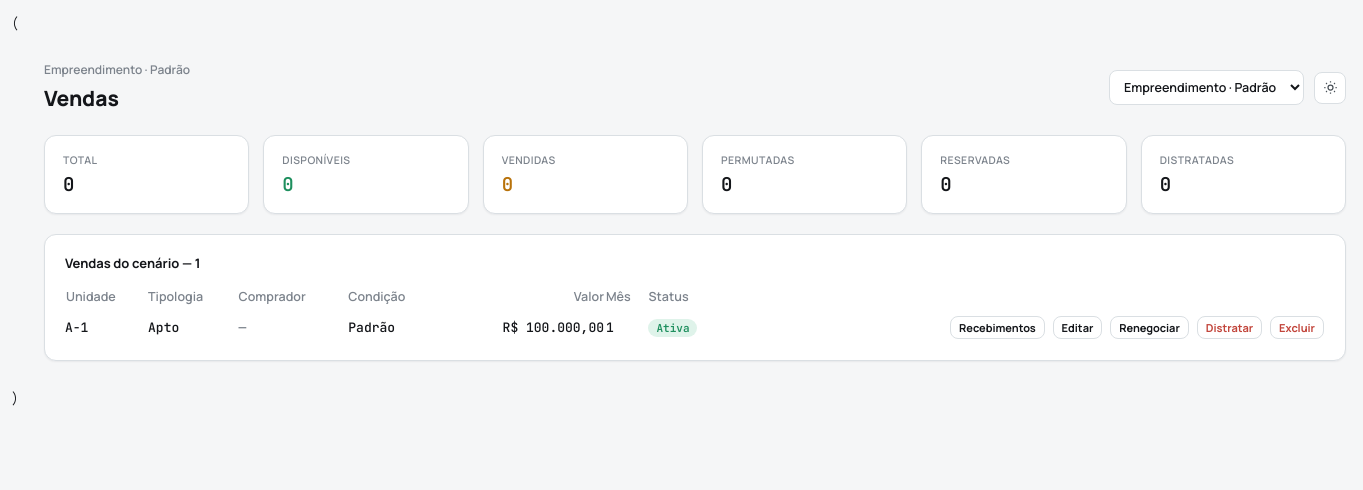
Test: VendasPage — mensagem de erro › some ao iniciar nova ação na tela, mesmo quando essa ação é recusada sem erro novo
Click the button "Excluir" at (1297, 327), box [1270, 316, 1324, 339]
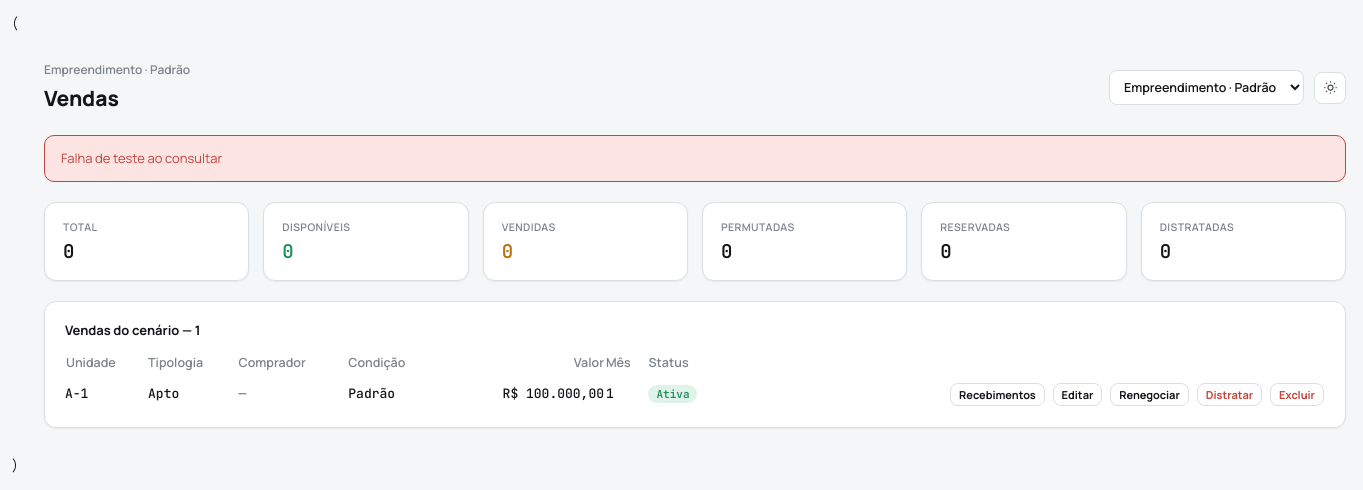
Now the text "Falha de teste ao consultar" is shown, box [44, 135, 1346, 182]
Click the button "Excluir" at (1297, 394), box [1270, 383, 1324, 406]
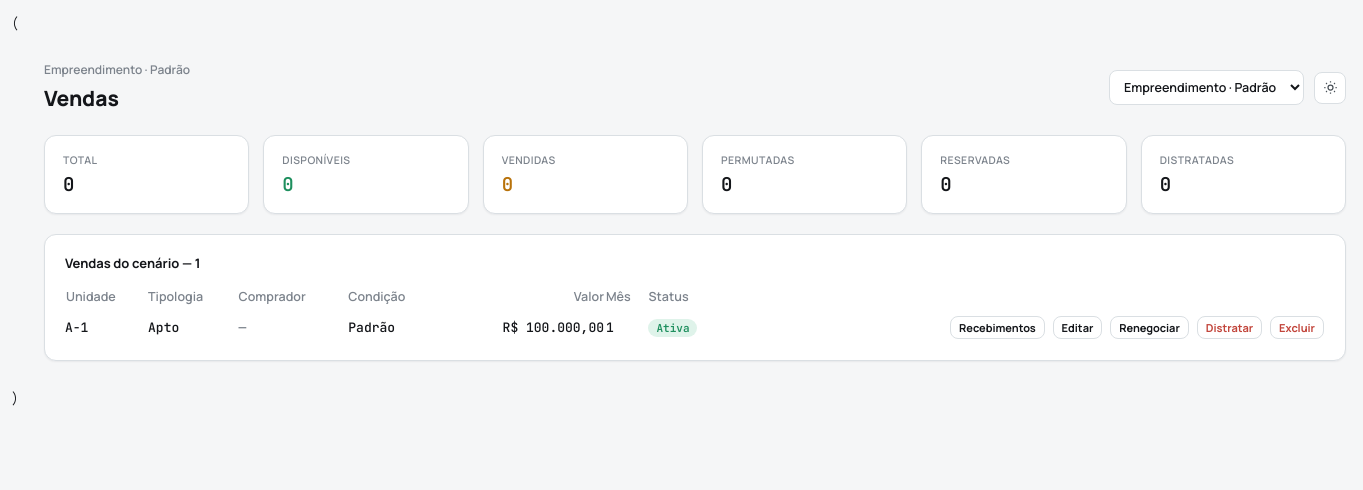
Now the text "Falha de teste ao consultar" is gone
